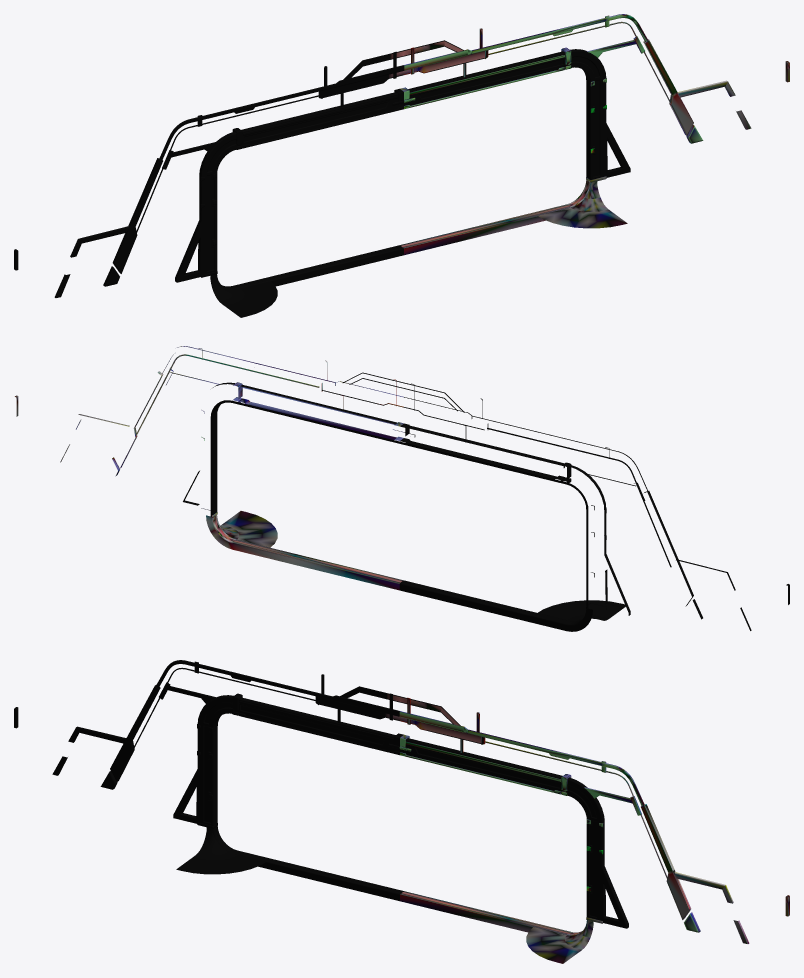
Rendered from CS_FieldGoalOuter_01.gltf.
3 renders of one model, top to bottom at view 1: azimuth 30°, elevation 25°; view 2: azimuth 150°, elevation 25°; view 3: azimuth 330°, elevation 25°, orthographic.
Parts seen in each view (by area): view 1: CS_FieldGoalOuter_01; view 2: CS_FieldGoalOuter_01; view 3: CS_FieldGoalOuter_01.
Part boxes in pixels (x1,y1,x2,y2): CS_FieldGoalOuter_01: (14, 14, 789, 317); CS_FieldGoalOuter_01: (15, 346, 789, 631); CS_FieldGoalOuter_01: (14, 660, 789, 963).
Bounding box in the file's own units: 37.12 × 9.52 × 2.92.
